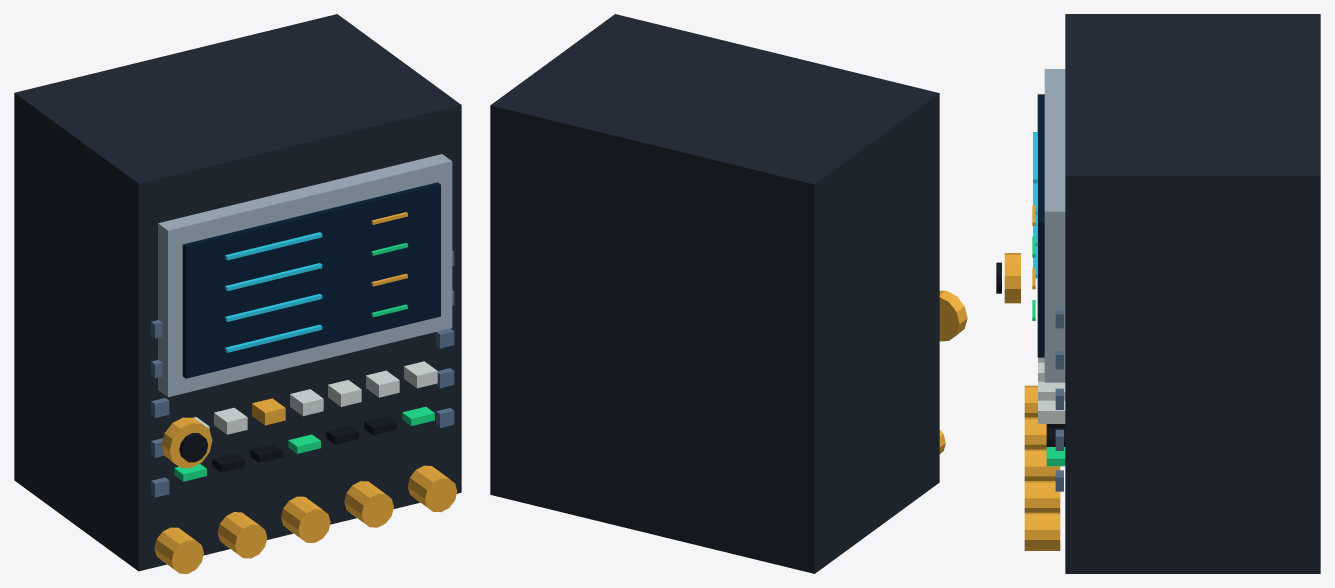
The model's file is 81_L86_RoboticServicingEventRecorder.fbx.
3 views of the same model, side by side, from view 1: azimuth 30°, elevation 25°; view 2: azimuth 150°, elevation 25°; view 3: azimuth 270°, elevation 25° (orthographic). The views are drawn at different scales.
Visible parts, largest first — view 1: L86_RoboticServicingEventRecorder, L86_RoboticServicingEventRecorder_Part_0009, L86_RoboticServicingEventRecorder_Part_0010; view 2: L86_RoboticServicingEventRecorder, L86_RoboticServicingEventRecorder_Part_0009; view 3: L86_RoboticServicingEventRecorder, L86_RoboticServicingEventRecorder_Part_0009.
Boxes of the visible parts, left/top/right/bottom form: L86_RoboticServicingEventRecorder: left=14, top=14, right=461, bottom=573; L86_RoboticServicingEventRecorder_Part_0009: left=161, top=417, right=212, bottom=468; L86_RoboticServicingEventRecorder_Part_0010: left=179, top=433, right=208, bottom=462; L86_RoboticServicingEventRecorder: left=490, top=14, right=945, bottom=573; L86_RoboticServicingEventRecorder_Part_0009: left=939, top=290, right=967, bottom=341; L86_RoboticServicingEventRecorder: left=1024, top=14, right=1320, bottom=573; L86_RoboticServicingEventRecorder_Part_0009: left=1004, top=253, right=1020, bottom=303.
Size of the model in its own units: 97.92 by 112 by 82.84.
